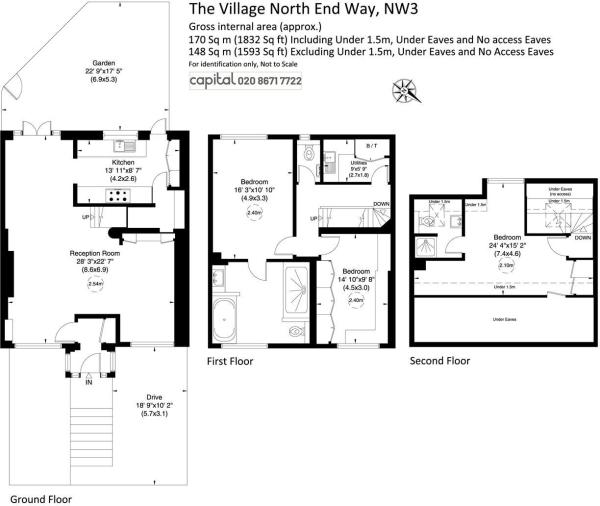GardenMeasurements: (83, 54, 125, 87)
GrossArea: (188, 21, 556, 59)
